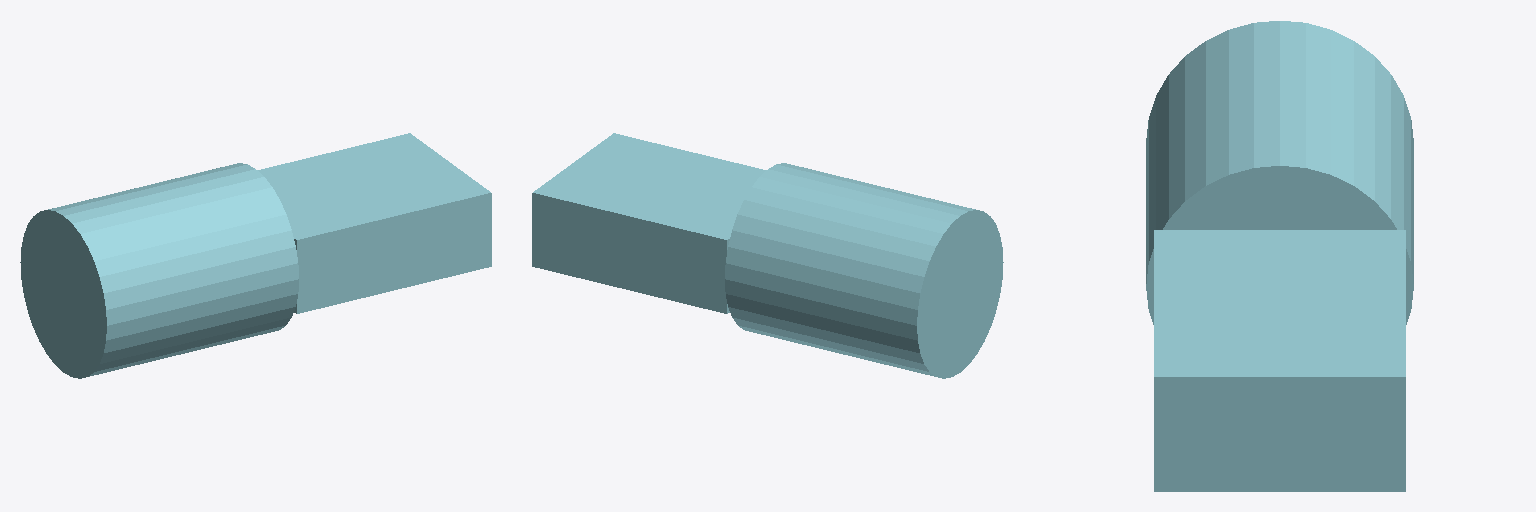
robot.urdf — cylinder_brush_v11003:
<?xml version="1.0"?>
<robot name="cylinder_brush_v11003">

  <link name="cylinder_brush_v11003">
    <!-- Handle -->
    <visual>
      <origin xyz="0 0 0" rpy="0 1.5707963267948966 0"/>
      <geometry>
        <cylinder length="0.0729315683189504" radius="0.028413317165471352"/>
      </geometry>
      <material name="material">
        <color rgba="0.639 0.847 0.882 1.0"/>
      </material>
    </visual>
    <collision>
      <origin xyz="0 0 0" rpy="0 1.5707963267948966 0"/>
      <geometry>
        <cylinder length="0.0729315683189504" radius="0.028413317165471352"/>
      </geometry>
    </collision>

    <!-- Head -->
    <visual>
      <origin xyz="0.07341433151783566 0 0" rpy="0 0 0"/>
      <geometry>
        <box size="0.07389709471672093 0.053507468278785365 0.026848073536212574"/>
      </geometry>
      <material name="material">
        <color rgba="0.639 0.847 0.882 1.0"/>
      </material>
    </visual>
    <collision>
      <origin xyz="0.07341433151783566 0 0" rpy="0 0 0"/>
      <geometry>
        <box size="0.07389709471672093 0.053507468278785365 0.026848073536212574"/>
      </geometry>
    </collision>

    <inertial>
      <density value="400.0"/>
    </inertial>
  </link>

</robot>

--- Render facts (derived) ---
3 views of the same robot in one strip: view 1: azimuth 30°, elevation 25°; view 2: azimuth 150°, elevation 25°; view 3: azimuth 270°, elevation 25° (orthographic).
Robot: cylinder_brush_v11003 — 1 links, 0 joints (none); root link cylinder_brush_v11003; default pose: all joints at 0.
Visible links, largest first — view 1: cylinder_brush_v11003; view 2: cylinder_brush_v11003; view 3: cylinder_brush_v11003.
Link boxes in pixels (x1,y1,x2,y2): cylinder_brush_v11003: (20,133,491,378); cylinder_brush_v11003: (532,133,1003,378); cylinder_brush_v11003: (1146,21,1413,491).
Size in the robot's own frame: 0.1468 by 0.0568 by 0.0568 metres.
Geometry: primitives only (box / cylinder / sphere), no mesh files.
